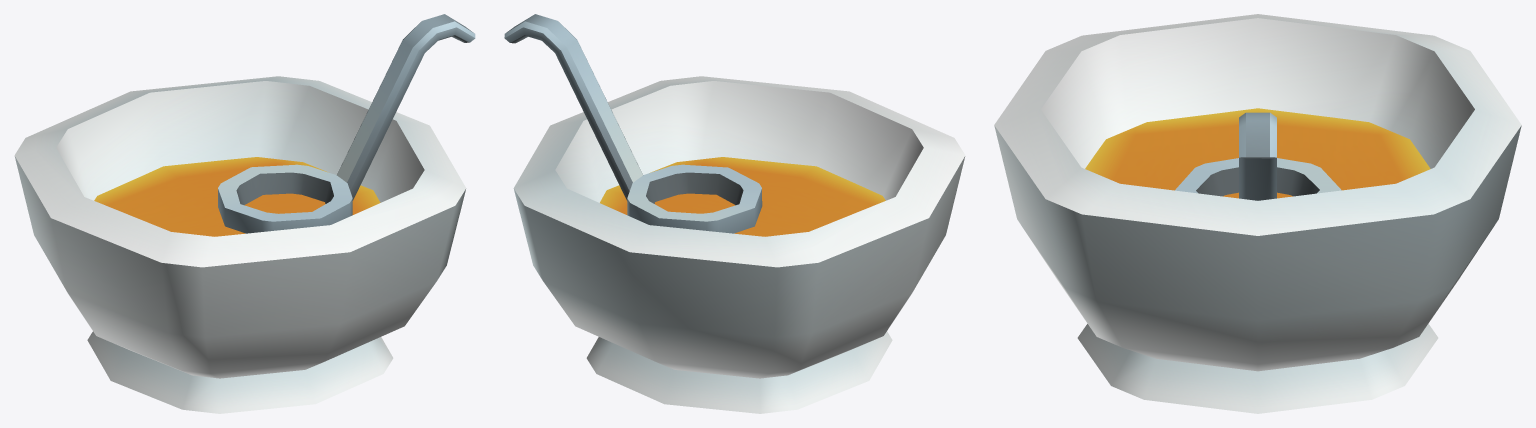
File: bowl_soup_full_laddle.fbx
3 renders of one model, left to right at view 1: azimuth 30°, elevation 25°; view 2: azimuth 150°, elevation 25°; view 3: azimuth 270°, elevation 25°, orthographic. The views are drawn at different scales.
Visible parts, largest first — view 1: bowl_soup_full_laddle; view 2: bowl_soup_full_laddle; view 3: bowl_soup_full_laddle.
Part boxes in pixels (box(x1,y1,x2,y2)): bowl_soup_full_laddle: box(14, 14, 475, 413); bowl_soup_full_laddle: box(504, 14, 965, 413); bowl_soup_full_laddle: box(994, 14, 1521, 413).
Size of the model in its own units: 65.95 by 42.13 by 59.83.
